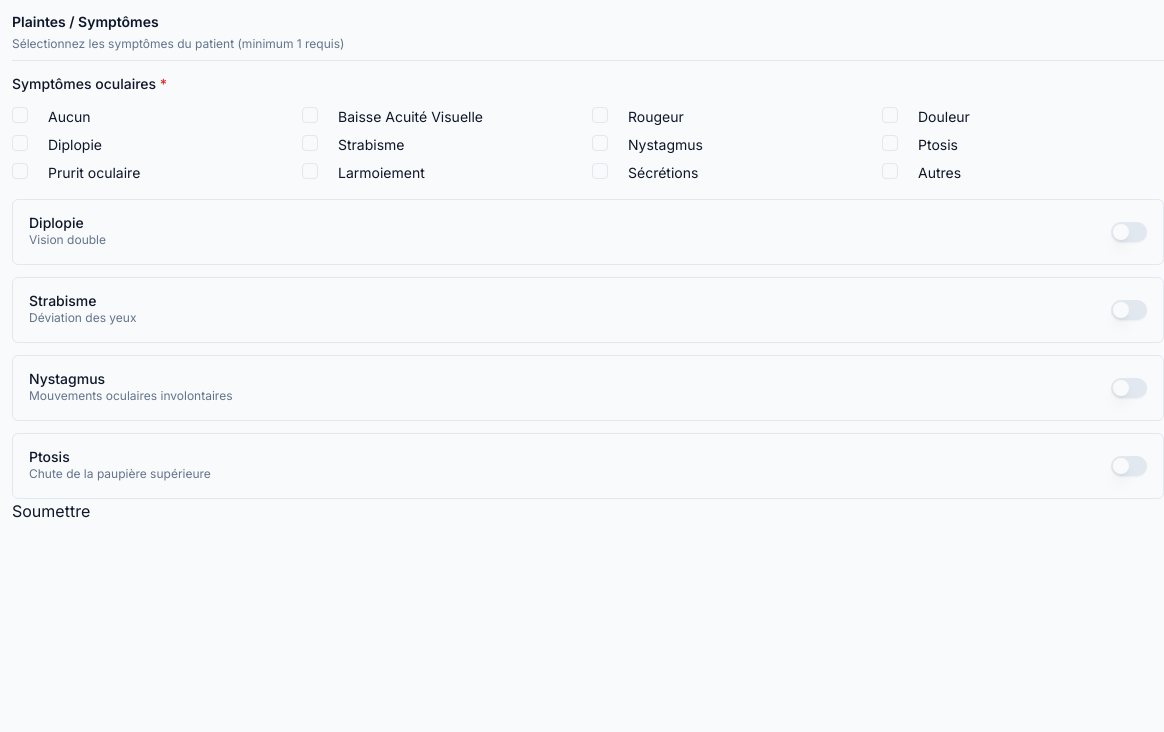
Test: PlaintesForm › diplopie conditionnel › masque le select Type quand le switch Diplopie est désactivé
Note: activer puis désactiver (re-query après chaque clic car le composant est remonté)
Click the switch named "diplopie" in the row of "Vision double" at (1129, 232), box [1111,222,1147,242]
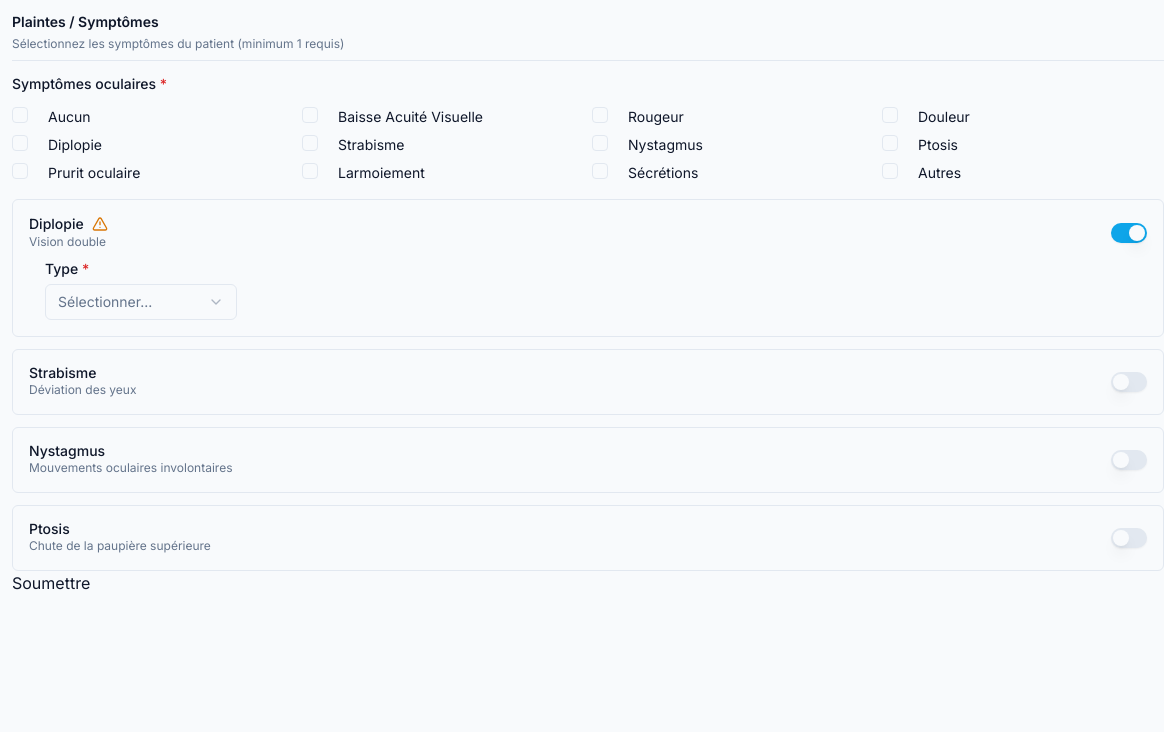
Now the dropdown named "type" is shown, box [45,284,237,320]
Note: Re-query the switch since ConditionalBooleanField remounts on parent re-render
Click the switch named "diplopie" in the row of "Vision double" at (1129, 233), box [1111,223,1147,243]
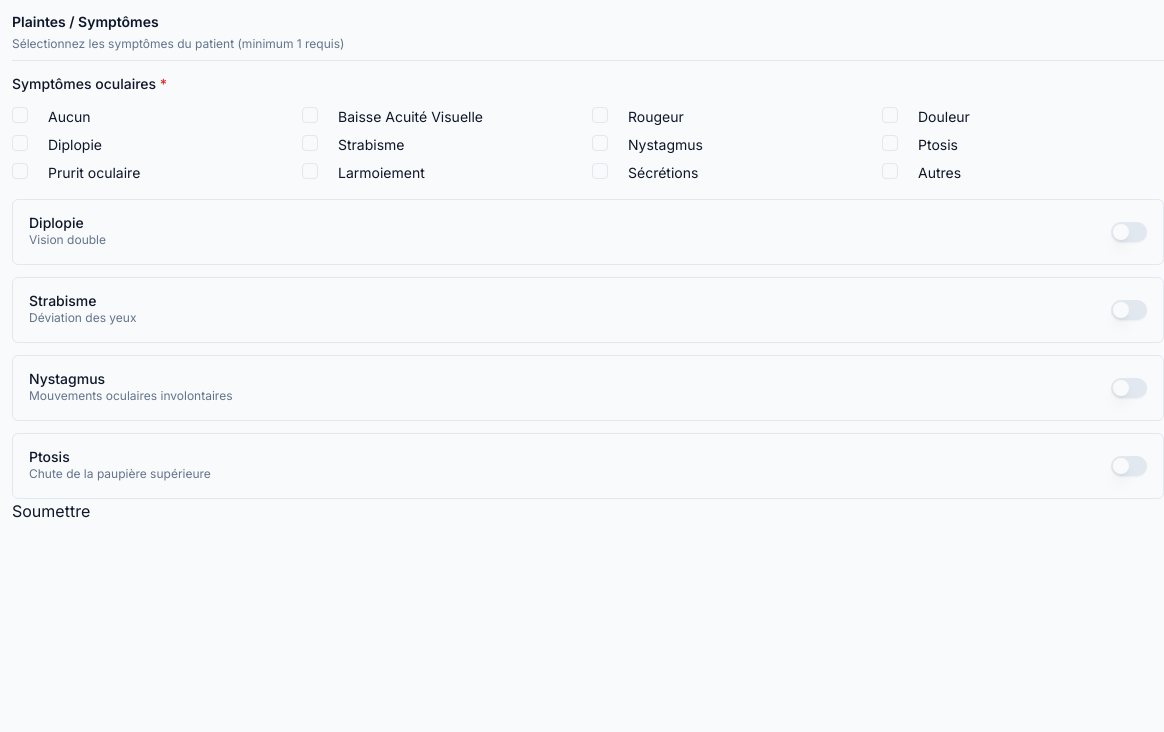
Now the label "Type" is gone
